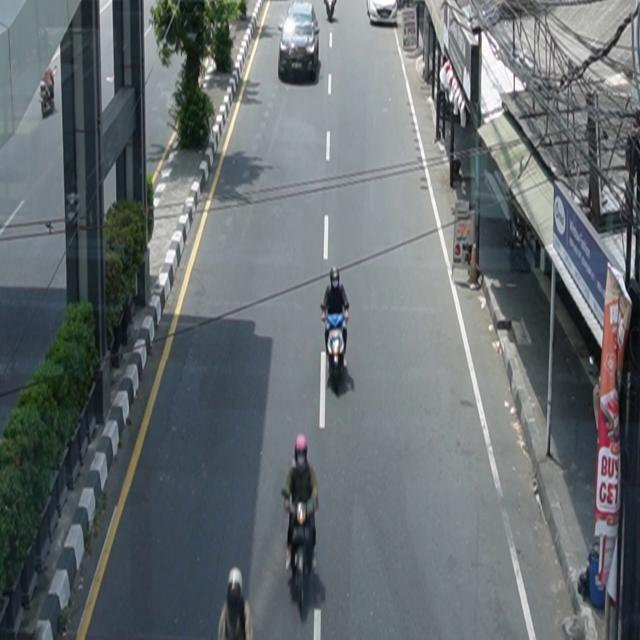car: (279, 1, 320, 83), (367, 1, 398, 26)
